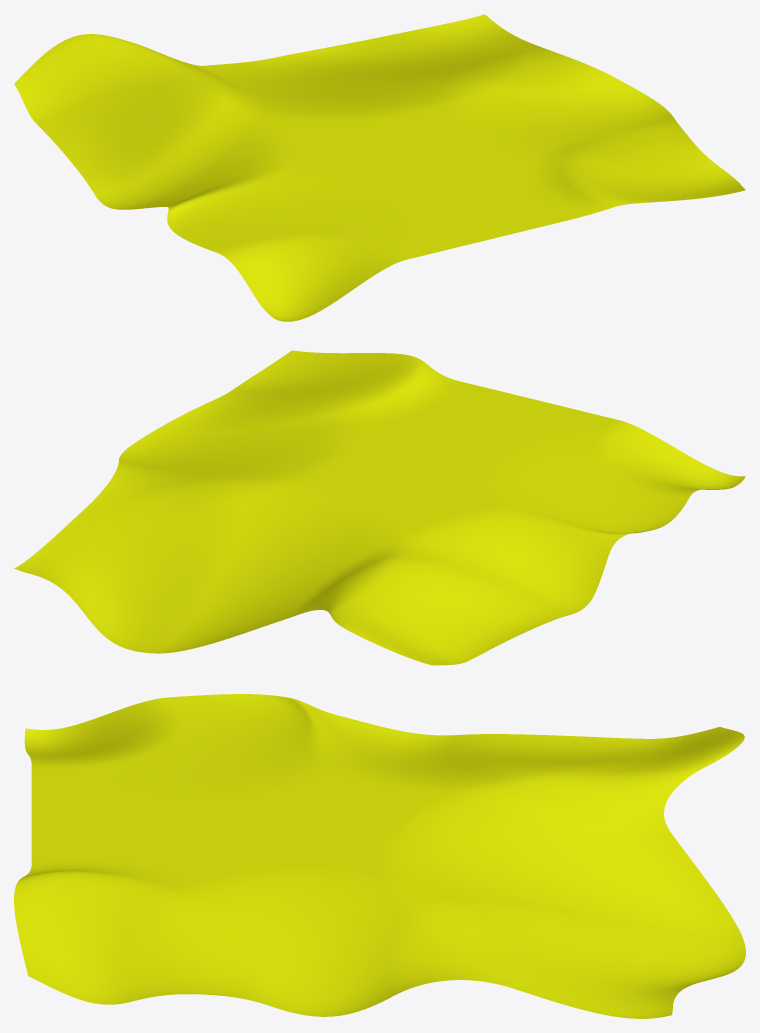
File: beach.glb
3 views of the same model, one above another, from view 1: azimuth 30°, elevation 25°; view 2: azimuth 150°, elevation 25°; view 3: azimuth 270°, elevation 25° (orthographic). The views are drawn at different scales.
Visible parts, largest first — view 1: Plane; view 2: Plane; view 3: Plane.
Boxes of the visible parts, x1,y1,x2,y2 form: Plane: (14, 14, 745, 321); Plane: (14, 350, 745, 665); Plane: (14, 694, 745, 1018).
Bounding box in the file's own units: 79.89 × 10.92 × 83.05.
